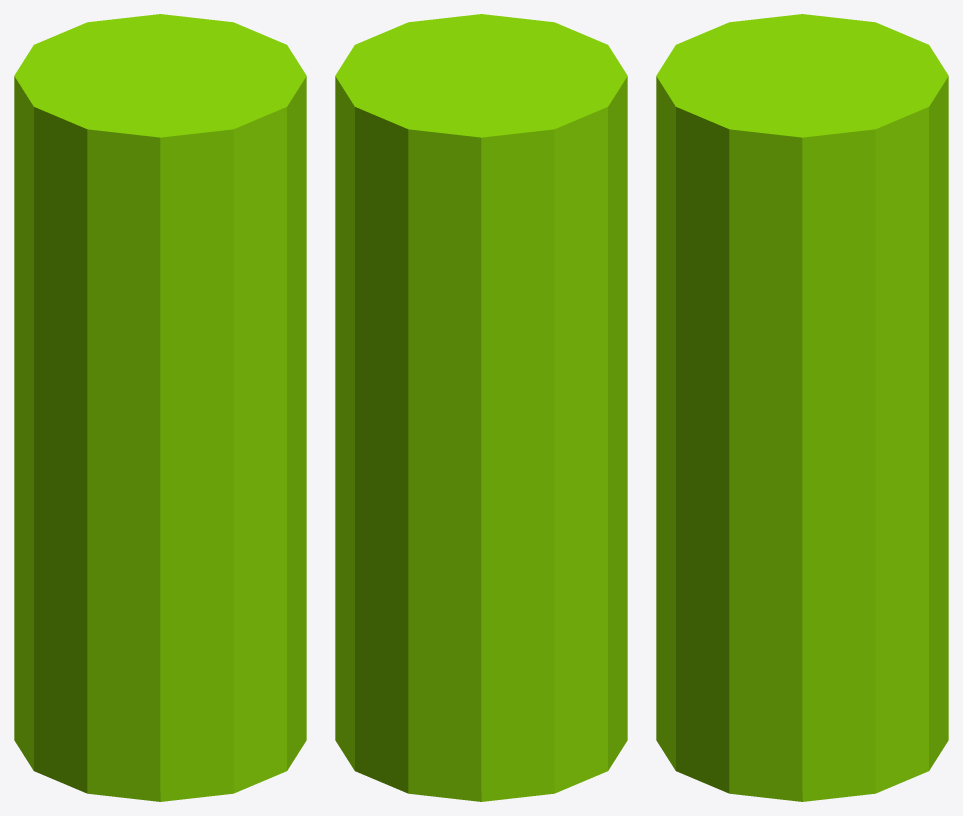
The model's file is Wall_Pillar_01_Lod1.fbx.
3 views of the same model, side by side, from view 1: azimuth 30°, elevation 25°; view 2: azimuth 150°, elevation 25°; view 3: azimuth 270°, elevation 25° (orthographic).
Visible parts, largest first — view 1: Wall_Pillar_01_Lod1; view 2: Wall_Pillar_01_Lod1; view 3: Wall_Pillar_01_Lod1.
Boxes of the visible parts, x1,y1,x2,y2 form: Wall_Pillar_01_Lod1: (14, 14, 306, 801); Wall_Pillar_01_Lod1: (335, 14, 627, 801); Wall_Pillar_01_Lod1: (656, 14, 948, 801).
Bounding box in the file's own units: 227 × 570 × 227.
